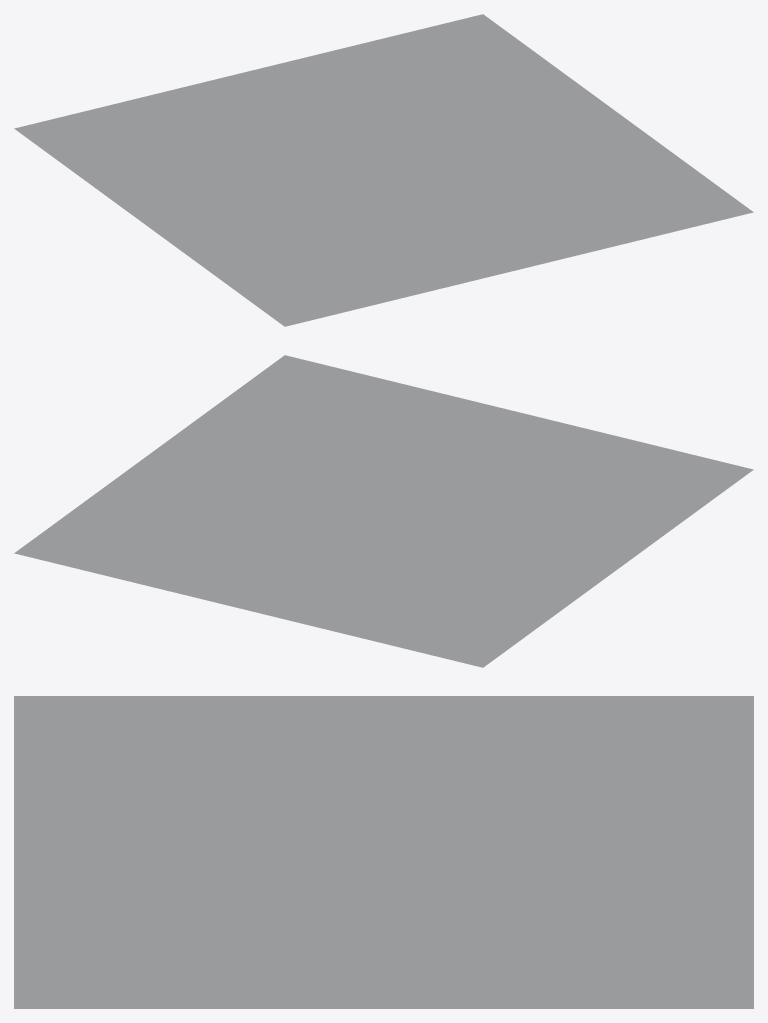
File: Ceiling_type_A_036.fbx
The picture shows the model from 3 angles, top to bottom: view 1: azimuth 30°, elevation 25°; view 2: azimuth 150°, elevation 25°; view 3: azimuth 270°, elevation 25°; orthographic projection. The views are drawn at different scales.
Visible parts, largest first — view 1: Ceiling_type_A_036; view 2: Ceiling_type_A_036; view 3: Ceiling_type_A_036.
Boxes of the visible parts, x1,y1,x2,y2 form: Ceiling_type_A_036: [14, 14, 753, 326]; Ceiling_type_A_036: [14, 355, 753, 667]; Ceiling_type_A_036: [14, 696, 753, 1008].
Size of the model in its own units: 400 by 400 by 1.2.
